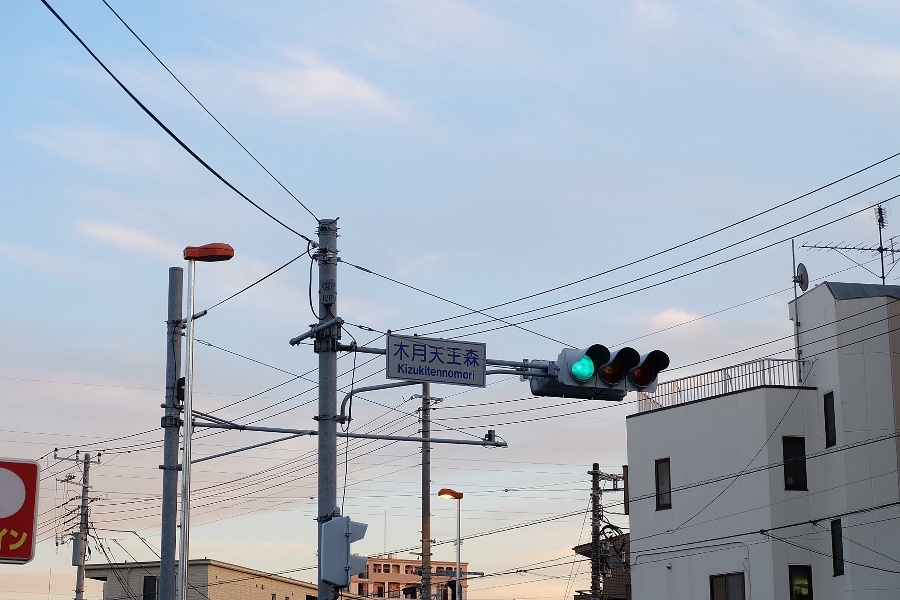text: (401, 341, 416, 369), (417, 341, 432, 369), (433, 341, 448, 369), (449, 341, 464, 369), (465, 341, 480, 369), (1, 529, 16, 554), (17, 529, 28, 554), (401, 364, 416, 381), (417, 364, 432, 381), (433, 364, 448, 381), (449, 364, 464, 381), (465, 364, 475, 381), (394, 341, 400, 369), (322, 295, 336, 302), (398, 364, 400, 381)
